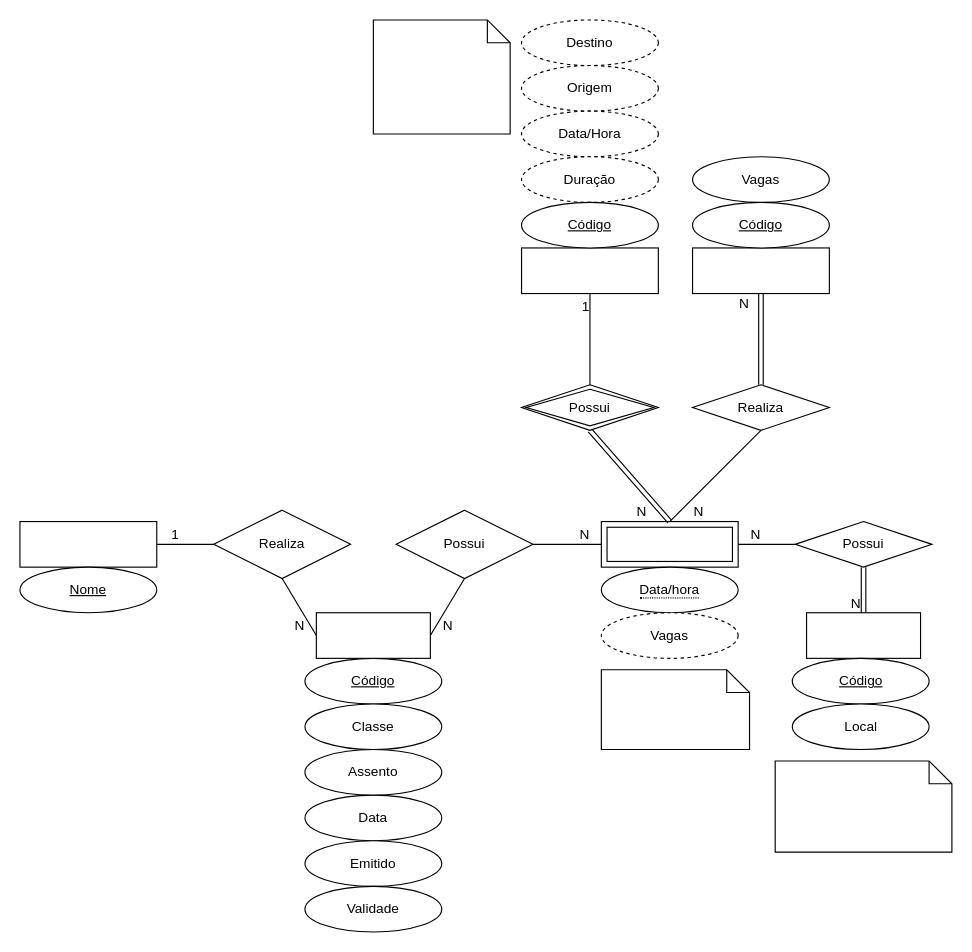
This 972x952 diagram has some shape labels left out. The shapes that lost their labels are listed below. From the top down, each one's box as (x1, y1, x2, y2) in pixels, then its label:
(372, 19, 510, 134): Origem e destino são os aeroportos dos trechos de origem e destino
(520, 247, 658, 294): Vôo
(691, 247, 829, 294): Aeronave
(19, 520, 157, 567): Cliente
(600, 520, 738, 567): Trecho
(315, 612, 430, 658): Reserva
(805, 612, 921, 658): Aeroporto
(600, 669, 750, 750): Por padrão, a data e hora é determinada por uma tabela geral
(774, 760, 952, 852): Cada trecho possui dois aeroportos, um de chegada e um de saida
